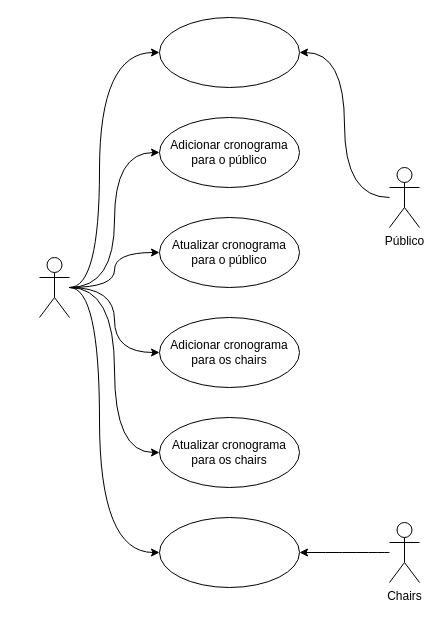
This 441x621 diagram has some shape labels left out. Here are the shapes that lost their labels. From the top down, the centre of each, then its label:
At [229,52]: "Visualizar cronograma para o público".
At [54,287]: "General Chair".
At [229,552]: "Visualizar cronograma para os chairs".
